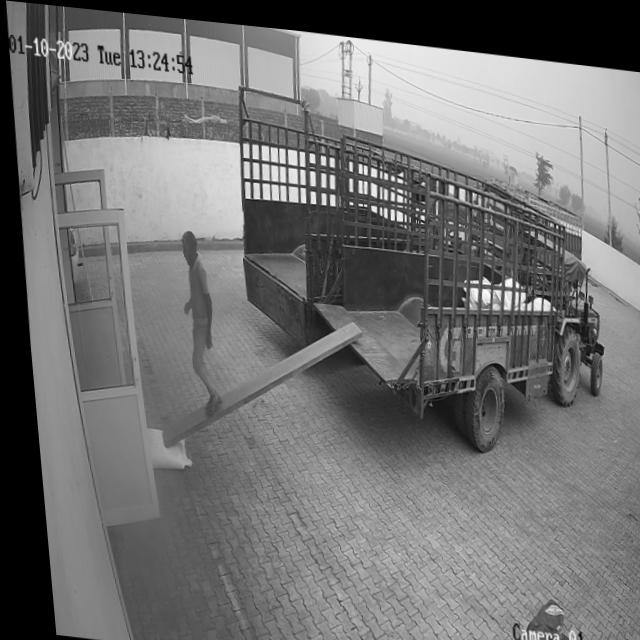sack: (137, 424, 183, 469)
